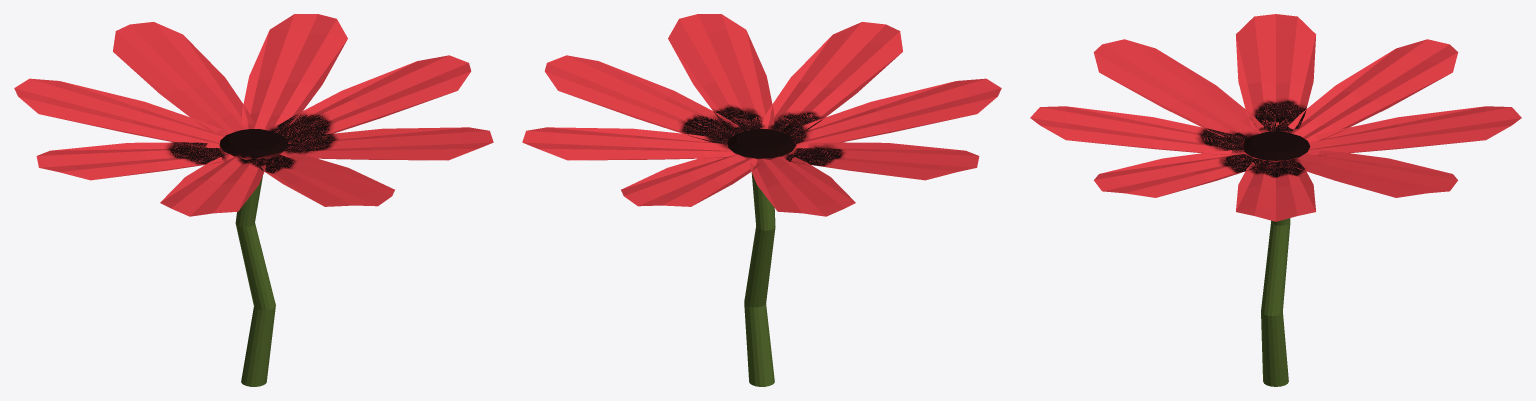
The model's file is Sm_FlowersL.001.fbx.
3 renders of one model, left to right at view 1: azimuth 30°, elevation 25°; view 2: azimuth 150°, elevation 25°; view 3: azimuth 270°, elevation 25°, orthographic.
Visible parts, largest first — view 1: Sm_FlowersL.001; view 2: Sm_FlowersL.001; view 3: Sm_FlowersL.001.
Part boxes in pixels (x1,y1,x2,y2): Sm_FlowersL.001: (14,14,493,386); Sm_FlowersL.001: (522,14,1001,386); Sm_FlowersL.001: (1030,14,1521,386).
Bounding box in the file's own units: 40.82 × 24.29 × 40.82.
